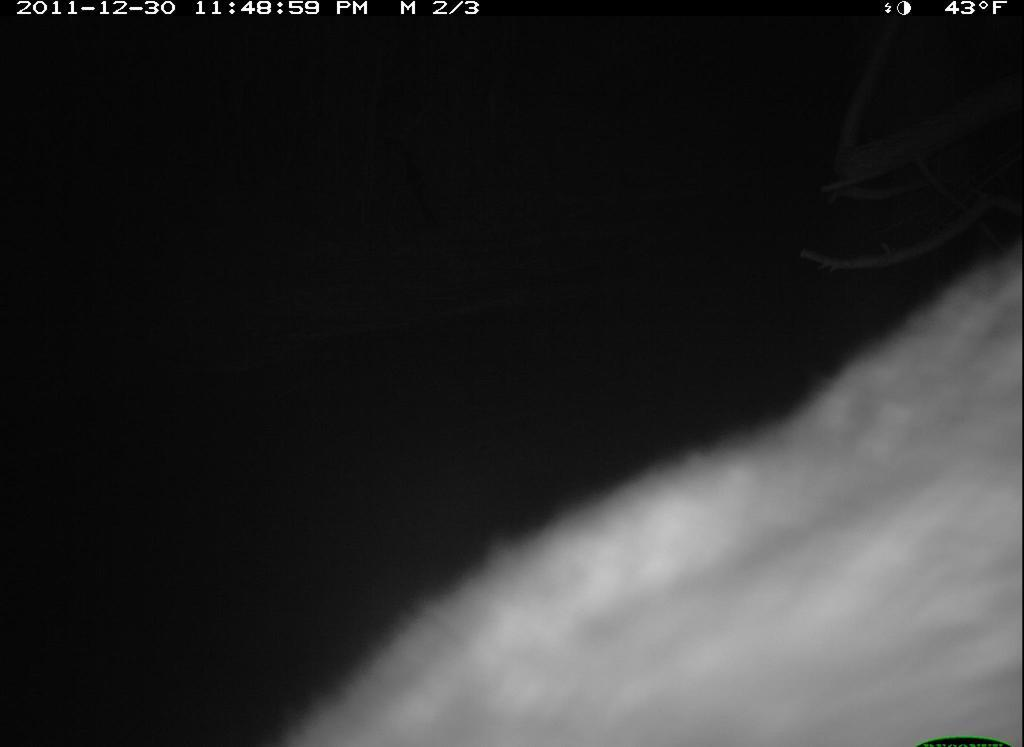raccoon: (273, 221, 1021, 745)
